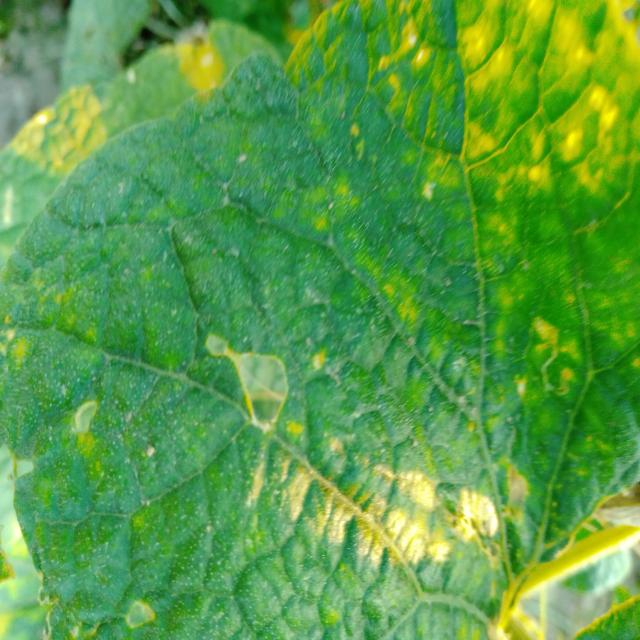cucumber_downy: (296, 4, 640, 631), (21, 278, 502, 640), (5, 85, 130, 181), (163, 33, 230, 98)
